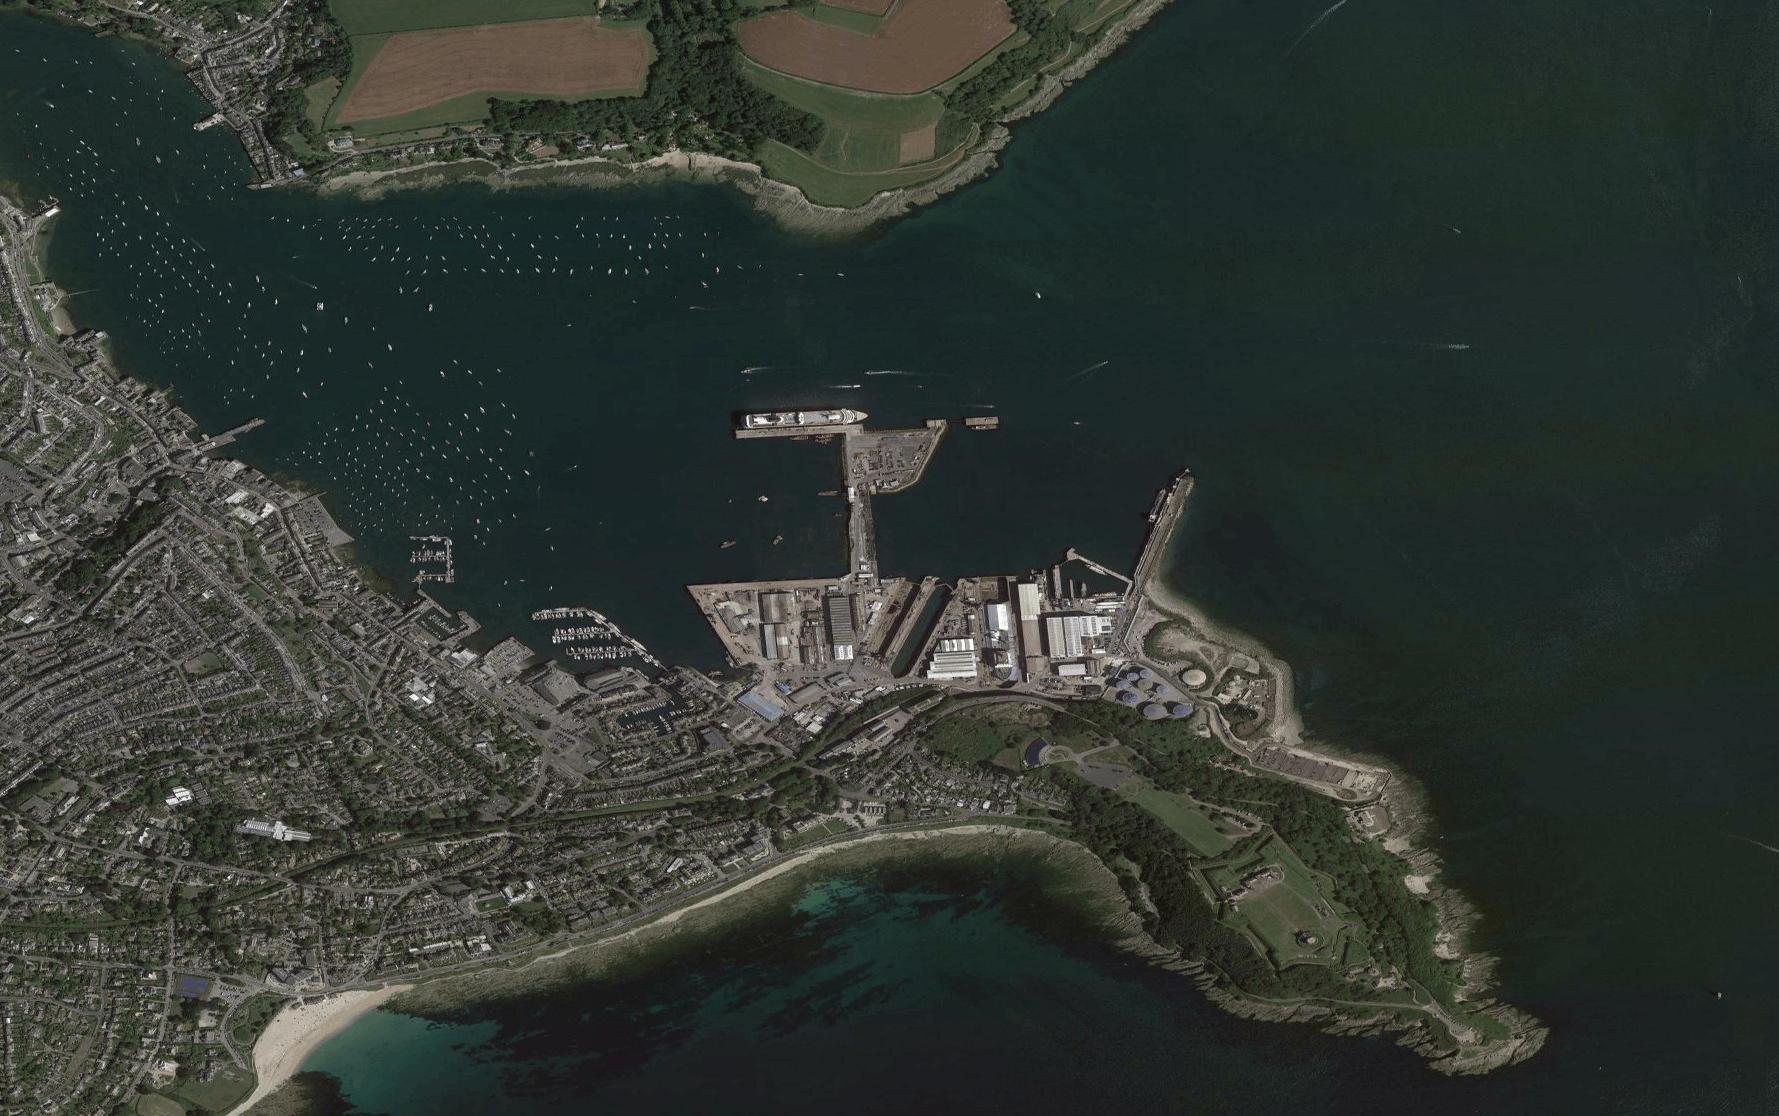harbor: (386, 354, 1287, 787)
